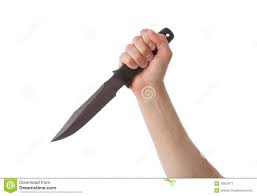weapon-unusual: (47, 26, 177, 141)
